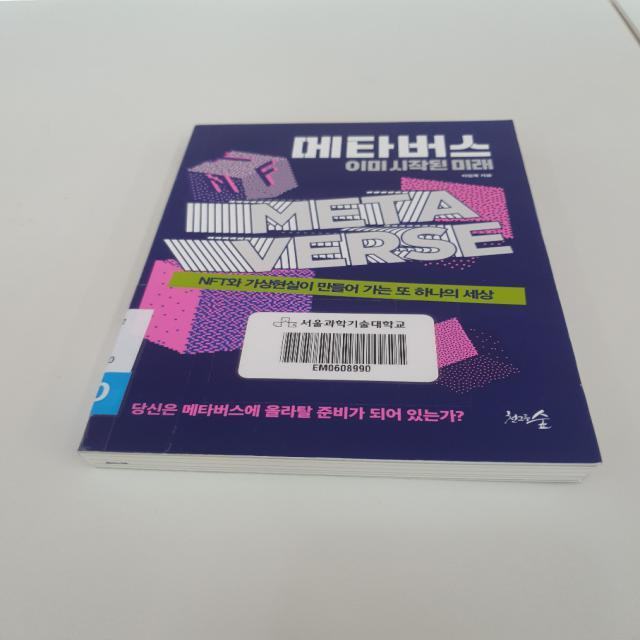Wornout: (75, 445, 108, 457), (572, 380, 592, 392)
